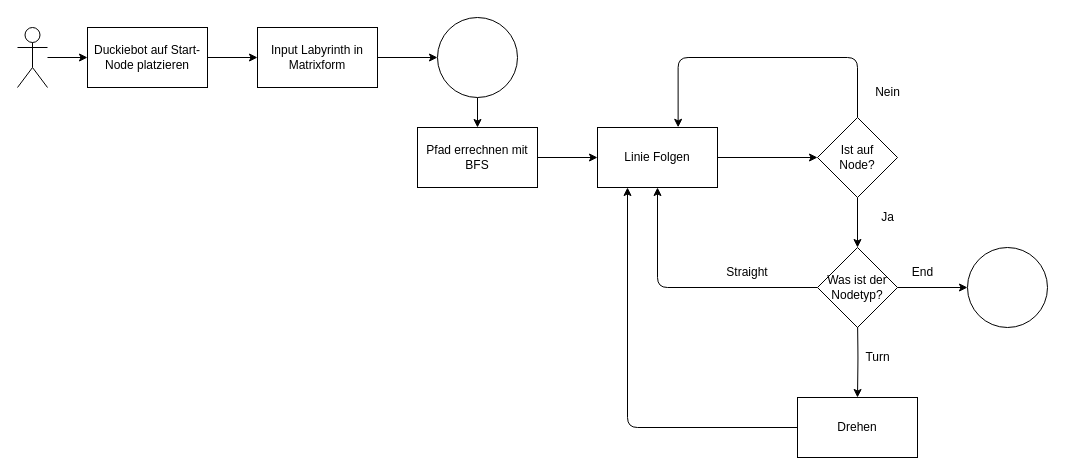
This 1065x475 diagram has some shape labels left out. Here are the shapes that lost their labels. From the top down, the centre of each, then its label:
(32,57): User
(477,57): Start
(1007,287): Ende
